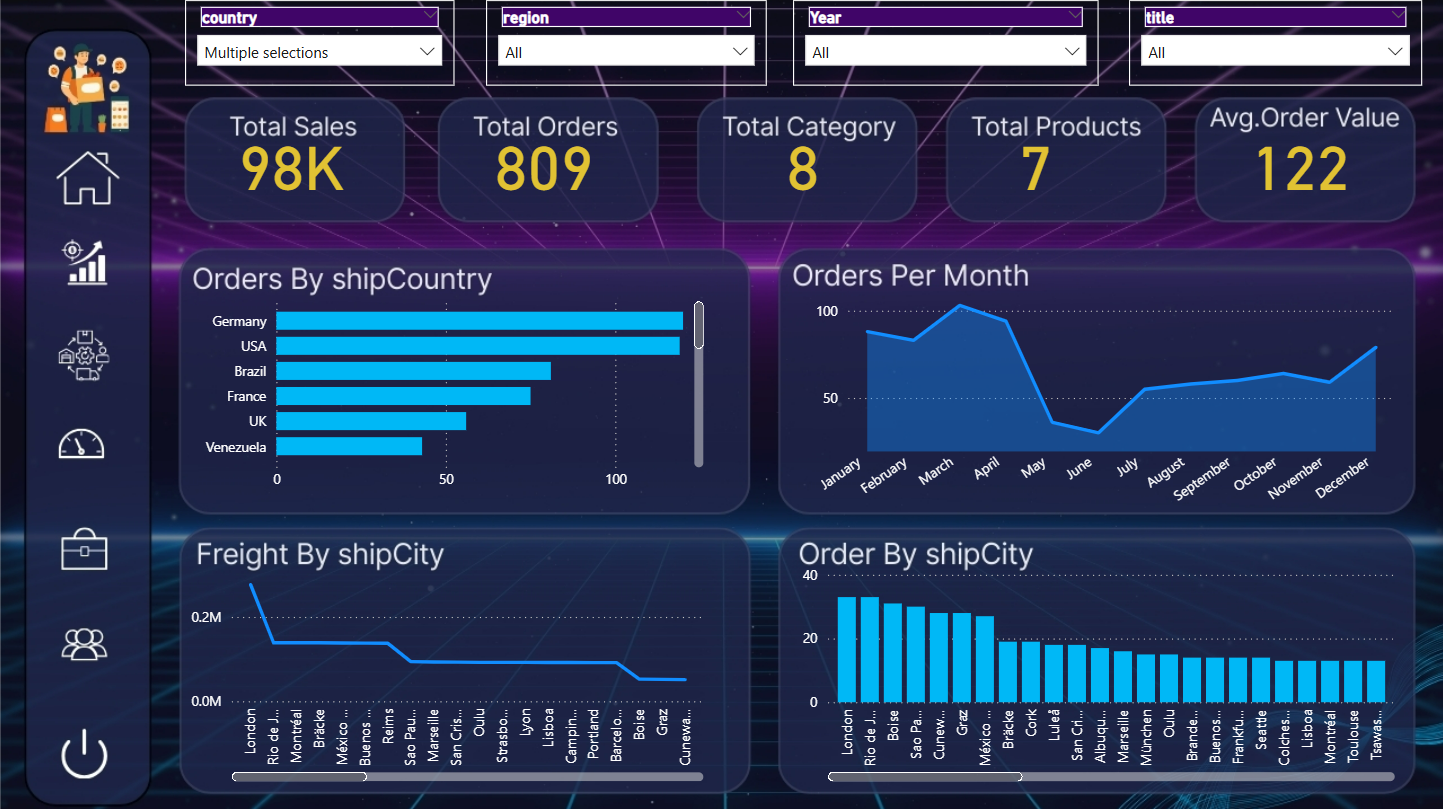

The dashboard page shown, as its layout file describes it:
{"tool":"powerbi","page":{"name":"Orders","canvas":[1280,720],"ordinal":1},"visuals":[{"type":"actionButton","box":[51.4,643.7,45.2,51.4],"z":0},{"type":"actionButton","box":[51.4,548,45.2,51.4],"z":1000},{"type":"actionButton","box":[51.4,462.9,45.2,51.4],"z":2000},{"type":"actionButton","box":[51.4,372.4,45.2,51.4],"z":3000},{"type":"actionButton","box":[51.4,288.2,45.2,51.4],"z":4000},{"type":"actionButton","box":[51.4,209.3,45.2,51.4],"z":5000},{"type":"actionButton","box":[51.4,133,52.3,53.2],"z":6000},{"type":"cardVisual","fields":{"Data":["DAX Measure orders.Total Sales"]},"box":[194.2,113.5,139.2,63],"z":7000},{"type":"cardVisual","fields":{"Data":["DAX Measure orders.Total Orders"]},"box":[421.2,113.5,139.2,63],"z":8000},{"type":"cardVisual","fields":{"Data":["DAX category and product.Total Categories"]},"box":[680.1,113.5,68.3,63],"z":9000},{"type":"cardVisual","fields":{"Data":["DAX category and product.Total Products"]},"box":[885.8,113.5,95.8,63],"z":10000},{"type":"cardVisual","fields":{"Data":["select","DAX Measure orders.AOV"]},"box":[1091.5,113.5,139.2,63],"z":11000},{"type":"barChart","fields":{"Y":["DAX Measure orders.Total Orders"],"Category":["OrderDim.shipCountry"]},"box":[164,254.5,464.6,188.9],"z":12000},{"type":"stackedAreaChart","fields":{"Y":["DAX Measure orders.Total Orders"],"Category":["OrderDim.orderDate.Variation.Date Hierarchy.Month"]},"box":[706.7,230.5,534.7,236.7],"z":13000},{"type":"lineChart","fields":{"Category":["OrderDim.shipCity"],"Y":["DAX Measure orders.Total Freight"]},"box":[164,495.7,464.6,202.2],"z":14000},{"type":"columnChart","fields":{"Category":["OrderDim.shipCity"],"Y":["DAX Measure orders.Total Orders"]},"box":[707,496,535,202],"z":15000},{"type":"slicer","fields":{"Values":["SuppliersDim.country"]},"box":[164,0,238.5,76.3],"z":16000},{"type":"slicer","fields":{"Values":["SuppliersDim.region"]},"box":[430.9,0,249.2,76.3],"z":17000},{"type":"slicer","fields":{"Values":["OrderDim.requiredDate.Variation.Date Hierarchy.Year"]},"box":[703.2,0,271.3,76.3],"z":18000},{"type":"slicer","fields":{"Values":["EmployeesDim.title"]},"box":[1001.1,0,259.8,76.3],"z":19000}]}

Visuals, with their boxes in screenshot pixels (x1, y1, x2, y2), scaled from the page's 1280x720 canvas onto the 1443x809 screenshot:
actionButton: {"left": 58, "top": 723, "right": 109, "bottom": 781}
actionButton: {"left": 58, "top": 616, "right": 109, "bottom": 673}
actionButton: {"left": 58, "top": 520, "right": 109, "bottom": 578}
actionButton: {"left": 58, "top": 418, "right": 109, "bottom": 476}
actionButton: {"left": 58, "top": 324, "right": 109, "bottom": 382}
actionButton: {"left": 58, "top": 235, "right": 109, "bottom": 293}
actionButton: {"left": 58, "top": 149, "right": 117, "bottom": 209}
cardVisual - DAX Measure orders.Total Sales: {"left": 219, "top": 128, "right": 376, "bottom": 198}
cardVisual - DAX Measure orders.Total Orders: {"left": 475, "top": 128, "right": 632, "bottom": 198}
cardVisual - DAX category and product.Total Categories: {"left": 767, "top": 128, "right": 844, "bottom": 198}
cardVisual - DAX category and product.Total Products: {"left": 999, "top": 128, "right": 1107, "bottom": 198}
cardVisual - select x DAX Measure orders.AOV: {"left": 1230, "top": 128, "right": 1387, "bottom": 198}
barChart - DAX Measure orders.Total Orders x OrderDim.shipCountry: {"left": 185, "top": 286, "right": 709, "bottom": 498}
stackedAreaChart - DAX Measure orders.Total Orders x OrderDim.orderDate.Variation.Date Hierarchy.Month: {"left": 797, "top": 259, "right": 1399, "bottom": 525}
lineChart - OrderDim.shipCity x DAX Measure orders.Total Freight: {"left": 185, "top": 557, "right": 709, "bottom": 784}
columnChart - OrderDim.shipCity x DAX Measure orders.Total Orders: {"left": 797, "top": 557, "right": 1400, "bottom": 784}
slicer - SuppliersDim.country: {"left": 185, "top": 0, "right": 454, "bottom": 86}
slicer - SuppliersDim.region: {"left": 486, "top": 0, "right": 767, "bottom": 86}
slicer - OrderDim.requiredDate.Variation.Date Hierarchy.Year: {"left": 793, "top": 0, "right": 1099, "bottom": 86}
slicer - EmployeesDim.title: {"left": 1129, "top": 0, "right": 1421, "bottom": 86}
